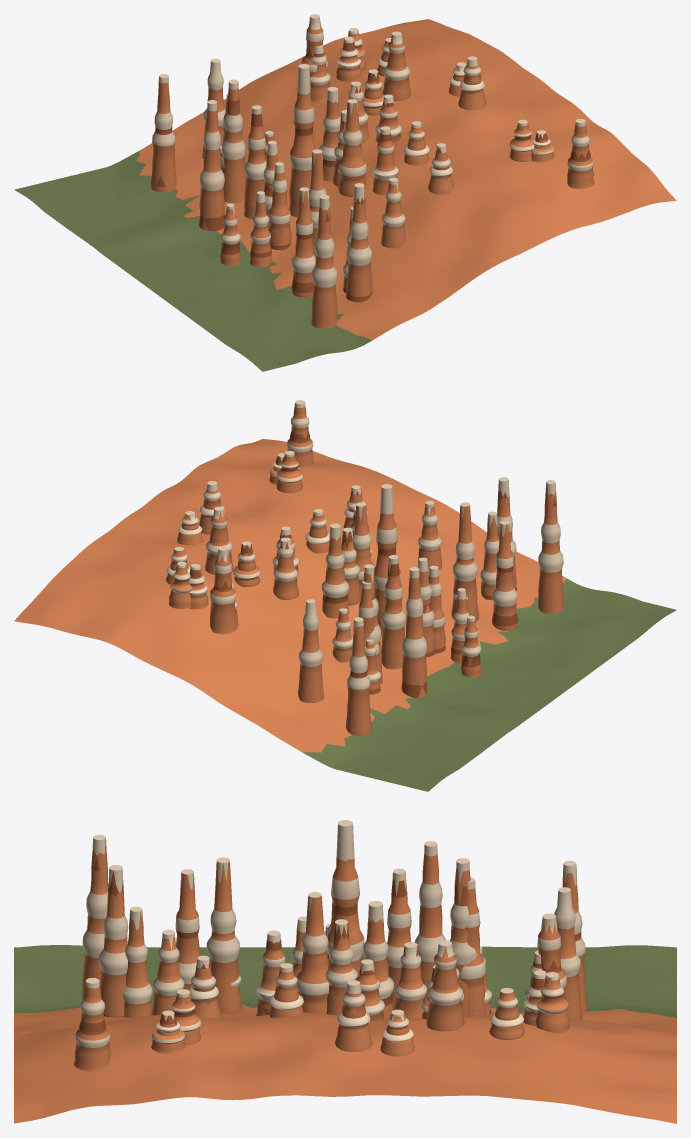
Rendered from landmark-hoodoos-hi.glb.
The picture shows the model from 3 angles, top to bottom: view 1: azimuth 30°, elevation 25°; view 2: azimuth 150°, elevation 25°; view 3: azimuth 270°, elevation 25°; orthographic projection. The views are drawn at different scales.
Parts seen in each view (by area): view 1: hoodoos.001; view 2: hoodoos.001; view 3: hoodoos.001.
Part boxes in pixels (x1=…): hoodoos.001: x1=14, y1=14, x2=676, y2=371; hoodoos.001: x1=14, y1=400, x2=676, y2=791; hoodoos.001: x1=14, y1=820, x2=676, y2=1123.
Bounding box in the file's own units: 2.49 × 1 × 2.59.
